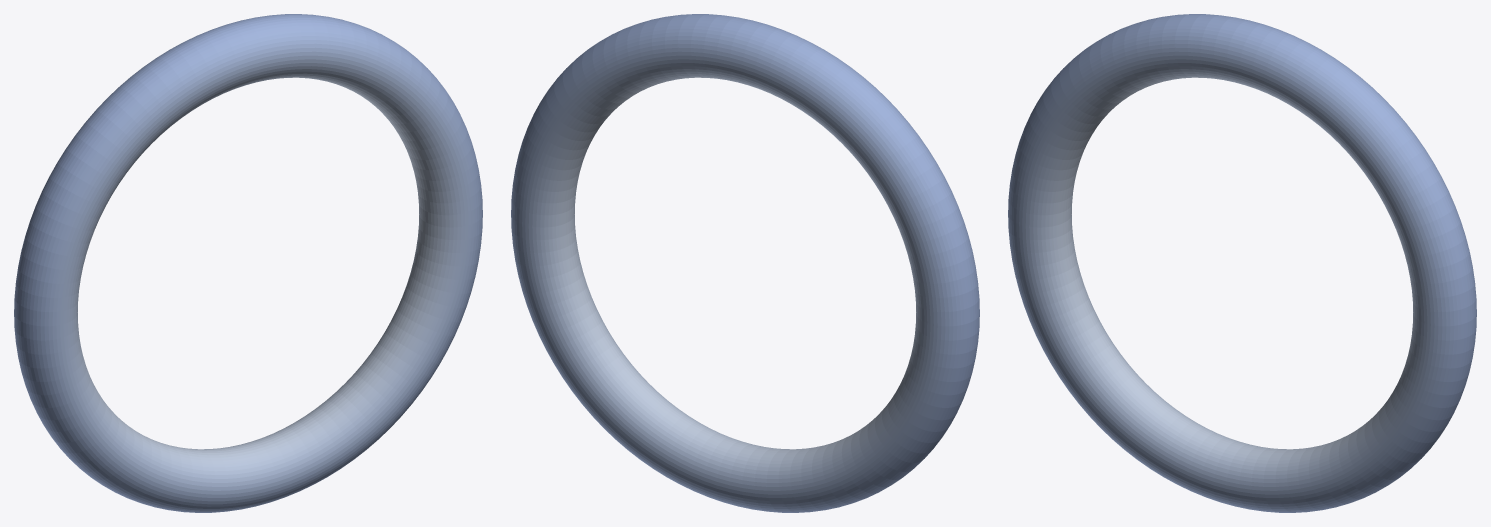
3 renders of one model, left to right at view 1: azimuth 30°, elevation 25°; view 2: azimuth 150°, elevation 25°; view 3: azimuth 330°, elevation 25°, orthographic.
Parts seen in each view (by area): view 1: world; view 2: world; view 3: world.
Boxes of the visible parts, x1,y1,x2,y2 form: world: (14,14,482,512); world: (511,14,979,512); world: (1008,14,1476,512).
Size of the model in its own units: 16.67 by 16.67 by 2.
